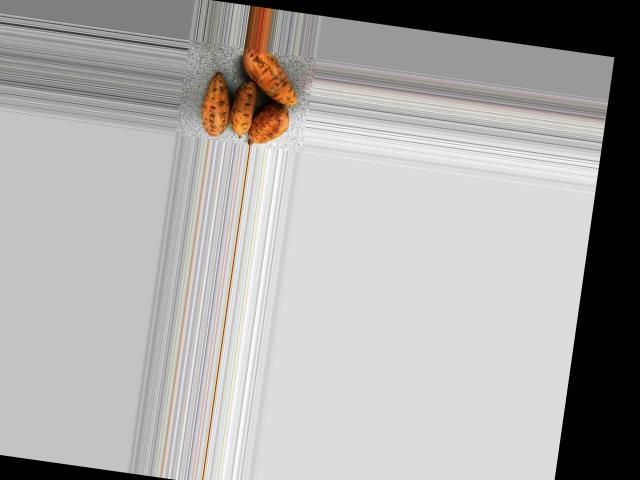sweet_potato: (230, 46, 308, 107)
